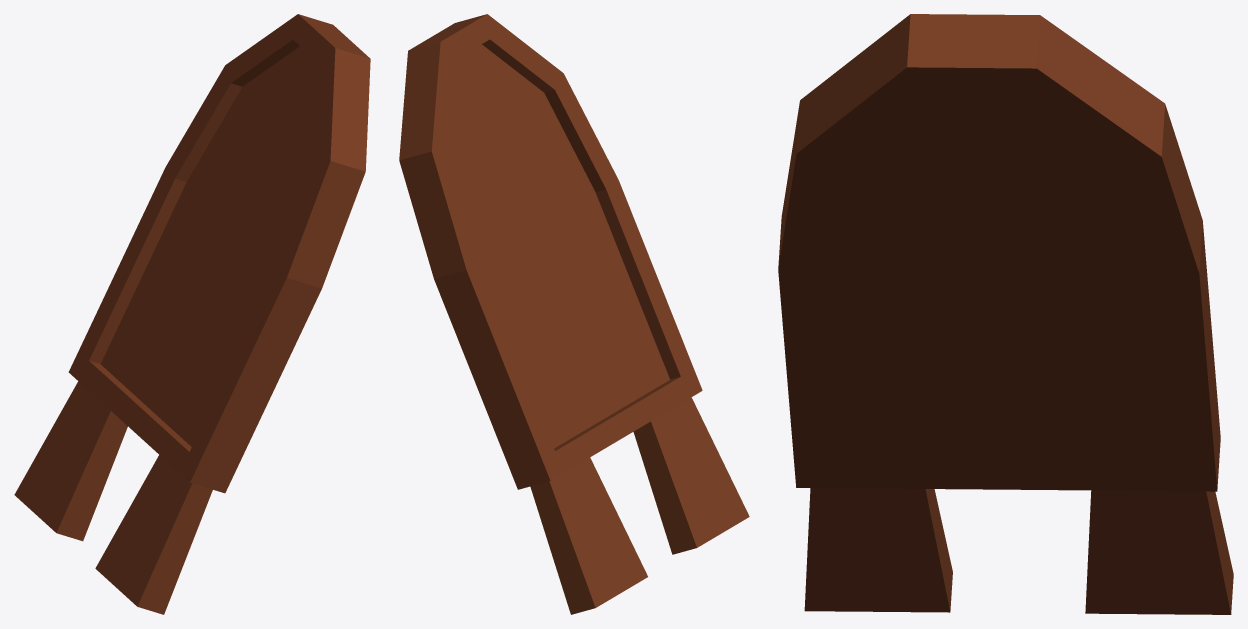
Rendered from Poster.fbx.
3 renders of one model, left to right at view 1: azimuth 30°, elevation 25°; view 2: azimuth 150°, elevation 25°; view 3: azimuth 270°, elevation 25°, orthographic. The views are drawn at different scales.
Visible parts, largest first — view 1: Plane.001; view 2: Plane.001; view 3: Plane.001.
Part boxes in pixels (x1,y1,x2,y2): Plane.001: (14, 14, 370, 614); Plane.001: (399, 14, 749, 614); Plane.001: (778, 14, 1233, 614).
Size of the model in its own units: 40.98 by 71.24 by 39.04.
